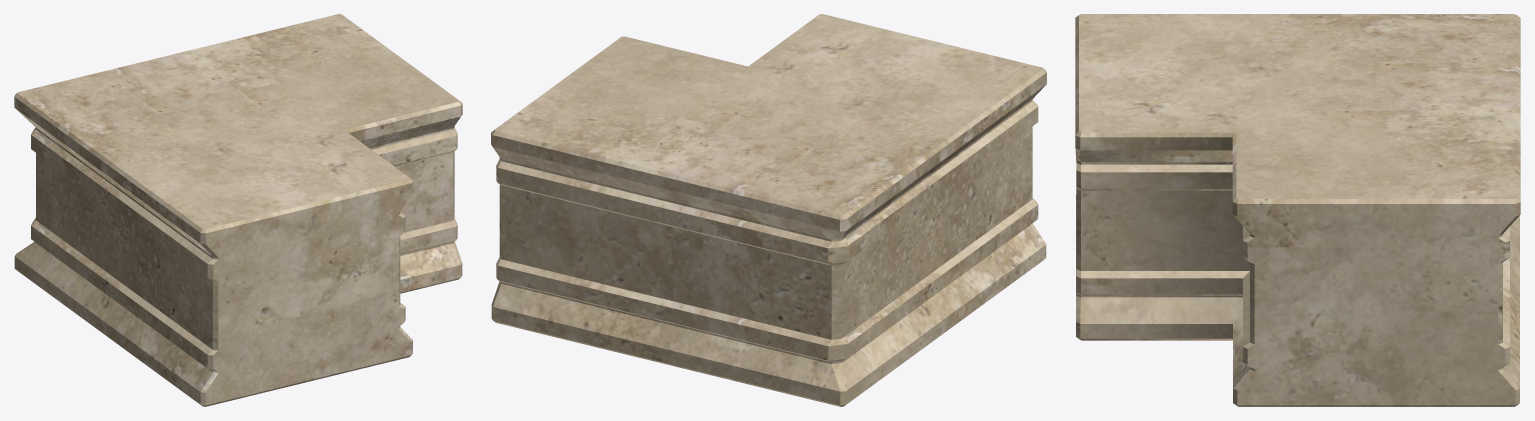
Rendered from decorative_brick_corner.FBX.
The picture shows the model from 3 angles, left to right: view 1: azimuth 30°, elevation 25°; view 2: azimuth 150°, elevation 25°; view 3: azimuth 270°, elevation 25°; orthographic projection. The views are drawn at different scales.
Parts seen in each view (by area): view 1: column_L024; view 2: column_L024; view 3: column_L024.
Boxes of the visible parts, x1,y1,x2,y2 form: column_L024: (14, 14, 462, 406); column_L024: (491, 14, 1046, 406); column_L024: (1075, 14, 1520, 406).
Size of the model in its own units: 100 by 51.69 by 100.
